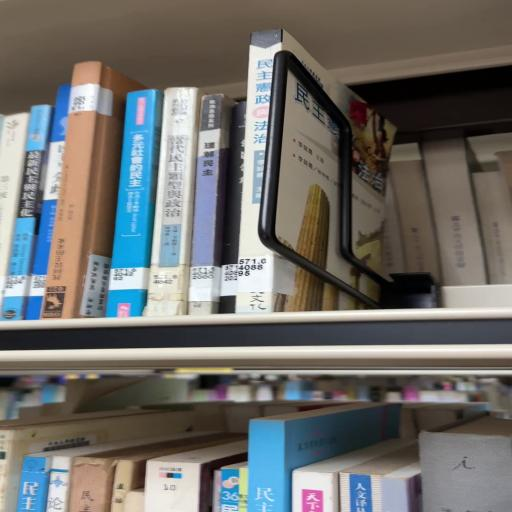book: (144, 87, 206, 317), (107, 89, 163, 317), (1, 105, 54, 321), (25, 84, 70, 320), (188, 94, 236, 315)
reverse: (40, 61, 146, 320)
